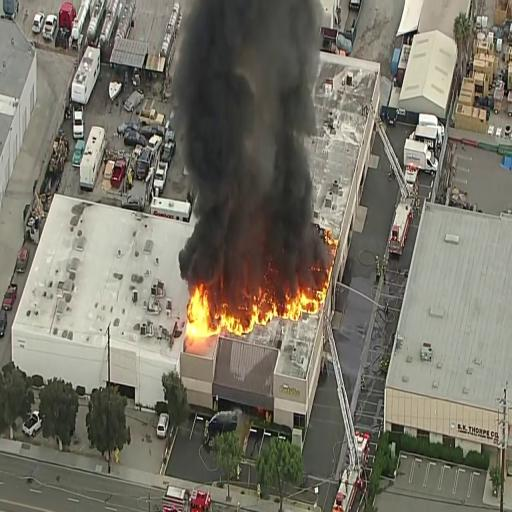fire: (207, 298, 267, 334), (284, 280, 321, 322), (184, 282, 210, 340)
smoke: (187, 44, 314, 275)
